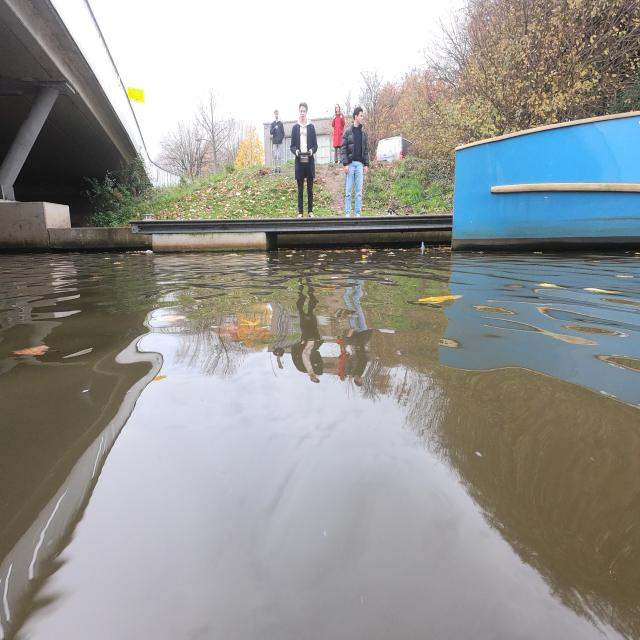boat: (452, 112, 640, 248)
dock: (130, 214, 453, 252), (49, 227, 152, 250)
grass: (134, 166, 295, 220), (364, 156, 453, 214), (316, 187, 338, 218)
sky: (88, 0, 459, 158), (91, 0, 459, 155)
wall: (0, 200, 71, 249)
water: (0, 246, 640, 640)
